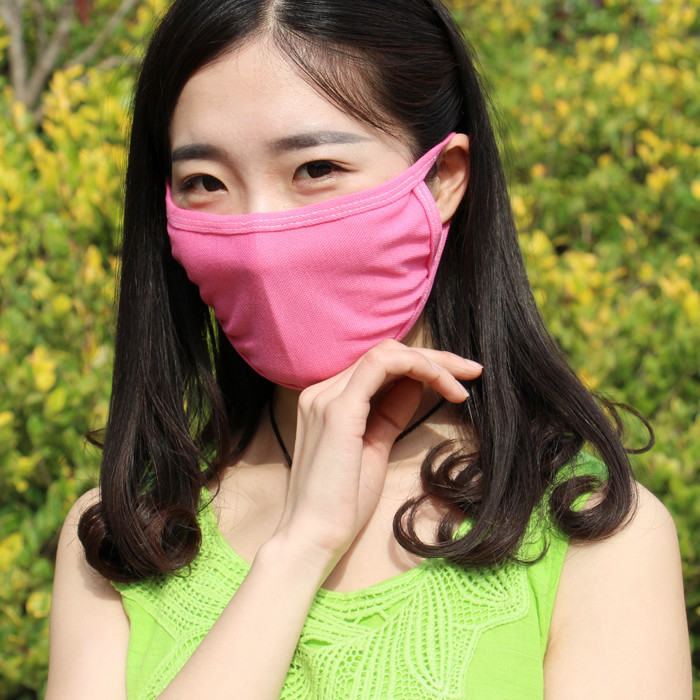face_mask: (170, 29, 418, 387)
